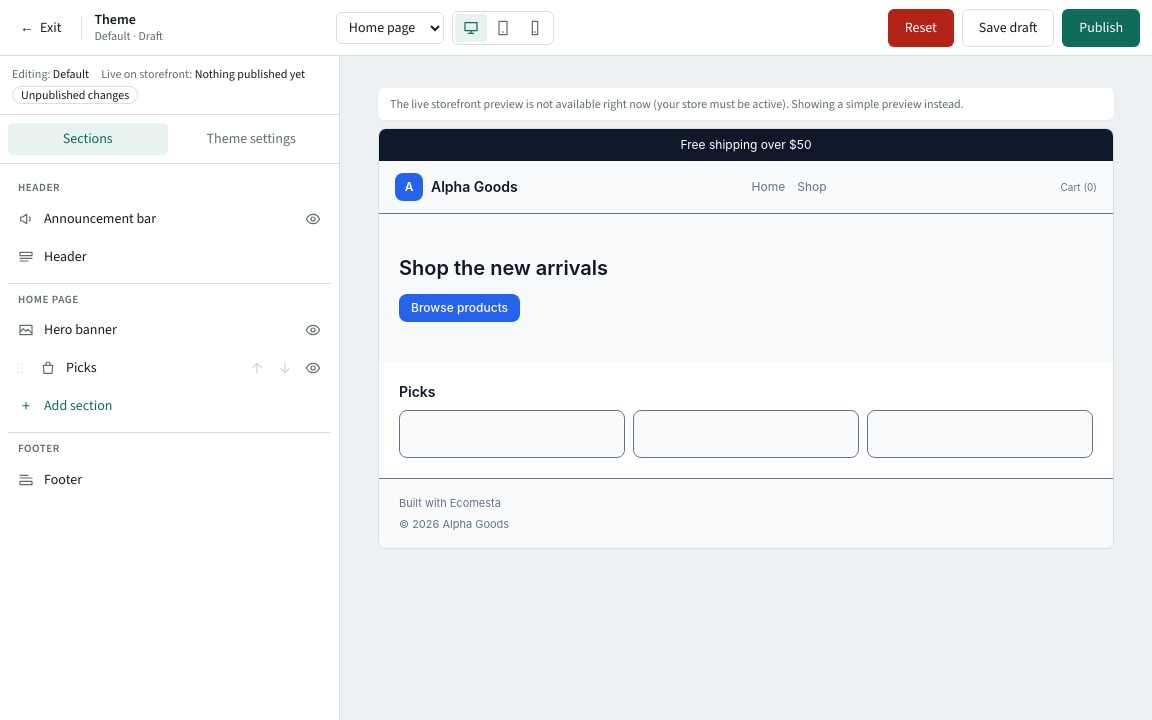
Premium themes › an included or owned premium theme can be edited
Click the tab "Theme settings".
click(251, 139)  # box [172,123,331,155]
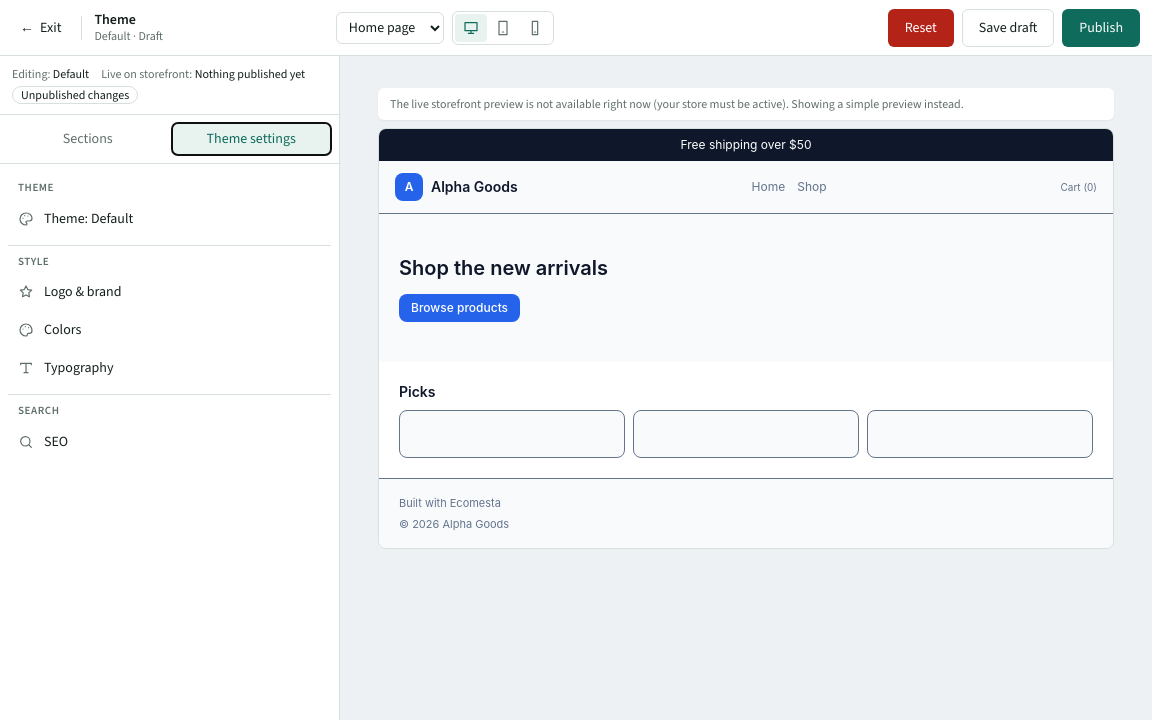
Click the button "Theme: Default".
click(89, 218)  # box [8,200,331,236]
(page scrolled)
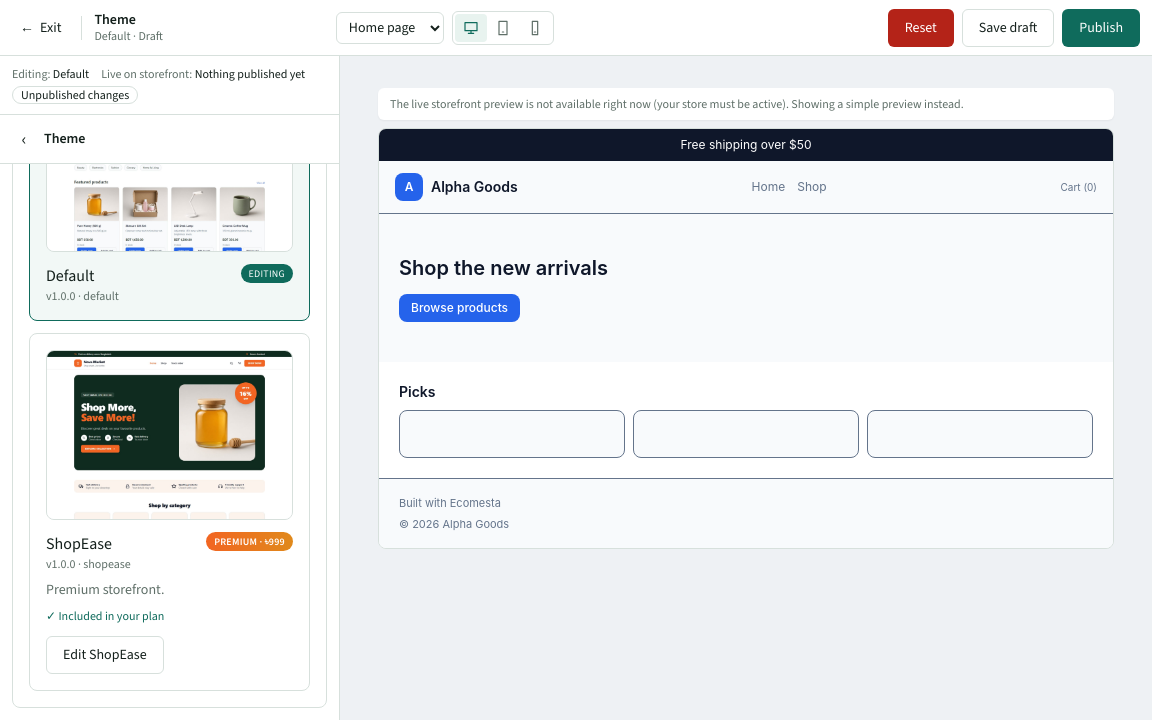
Now the button "Edit ShopEase" is shown, box [46,636,164,674]
Now the text "✓ Included in your plan" is shown, box [46,608,164,624]
